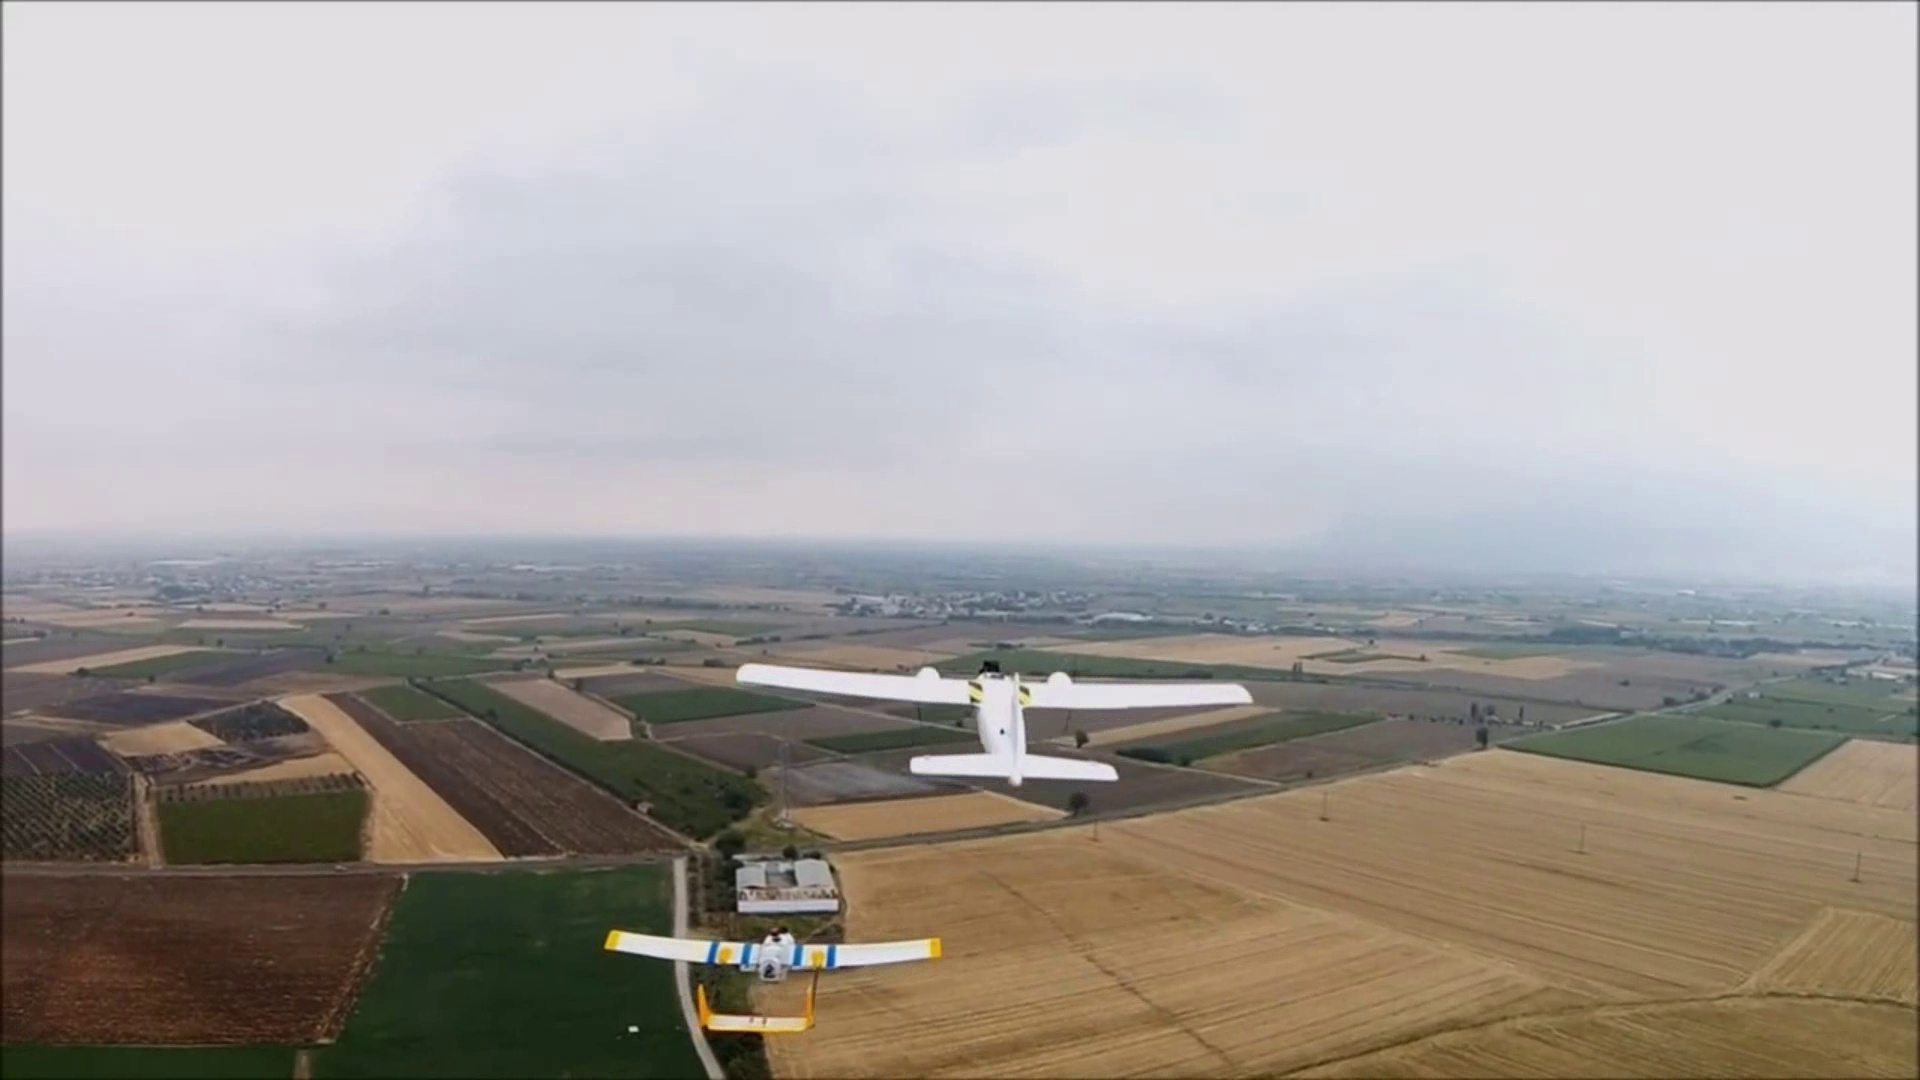airplane: (724, 644, 1258, 799)
